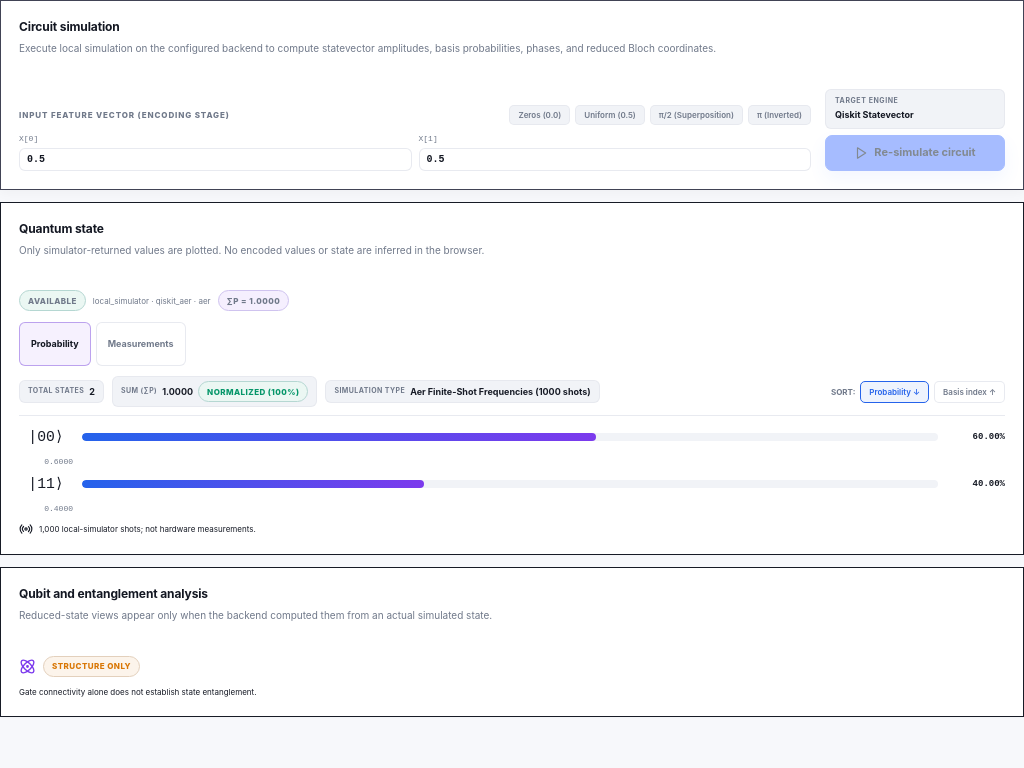
QuantumStatePanel Component › renders finite-shot Aer measurement counts and notes
The width and height of the screenshot is (1024, 768).
Click the tab "Measurements" at (141, 344), box top-left (96, 322), bottom-right (186, 366)
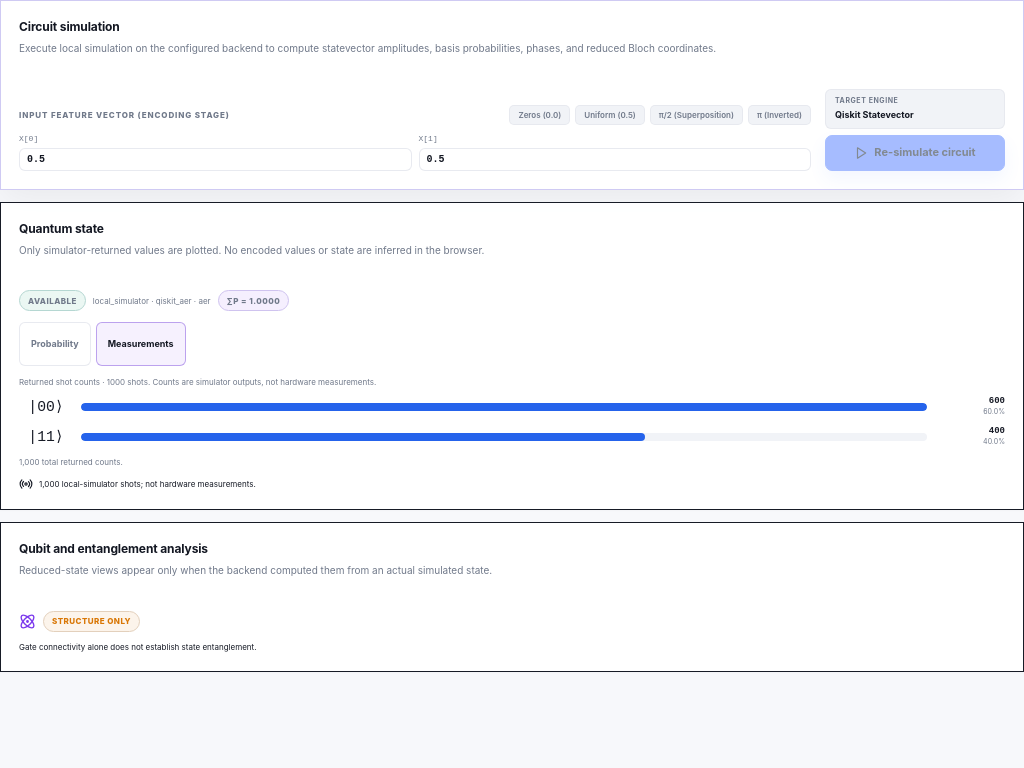
Expected: the text "600" is shown, top-left (989, 396), bottom-right (1005, 406)
Expected: the text "1,000 total returned counts." is shown, top-left (19, 457), bottom-right (123, 467)
Expected: the text "Counts are simulator outputs, not hardware measurements" is shown, top-left (148, 377), bottom-right (376, 387)
